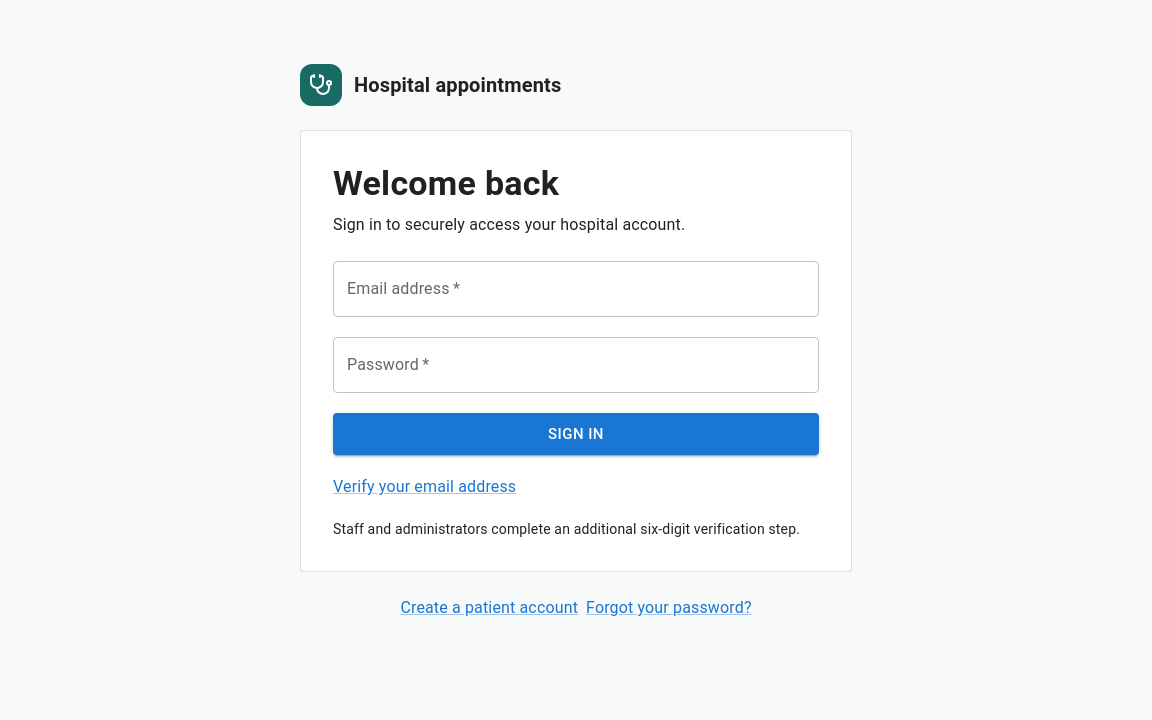
Test case: identity routes › completes MFA and redirects forced-password staff to password change
In the field labelled "Email address *": (576, 289) [333,261,819,317], type "staff@example.test"
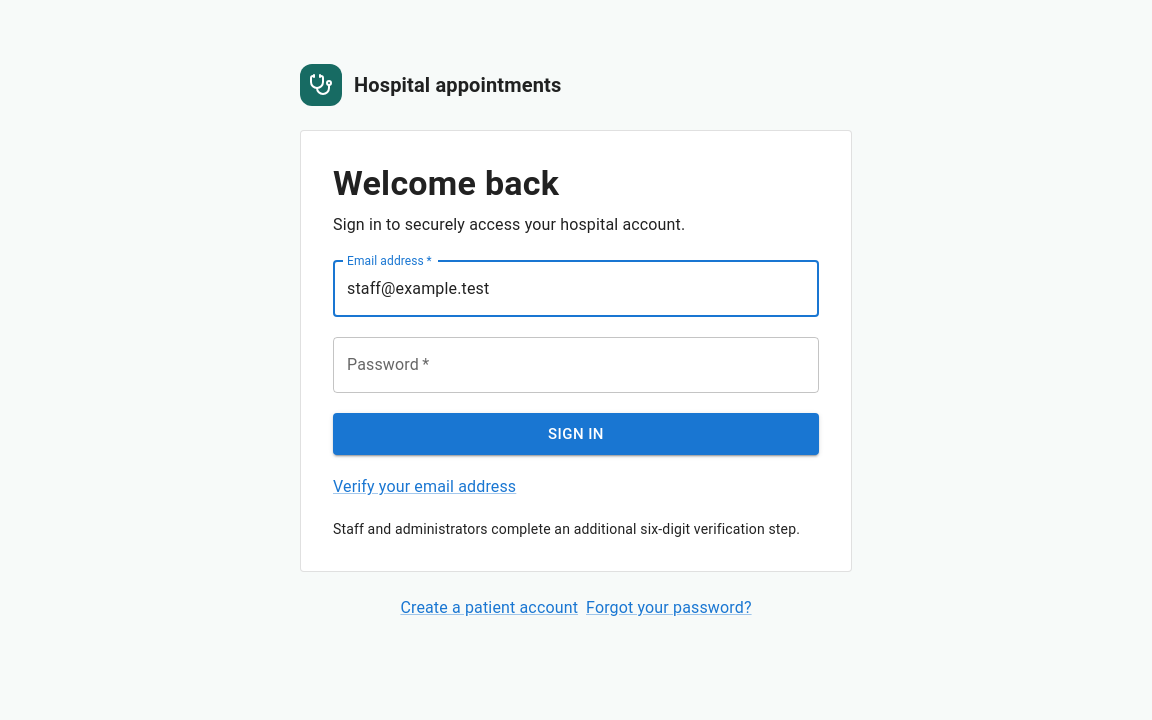
In the password field labelled "Password *": (576, 365) [333,337,819,393], type "not-a-real-password"
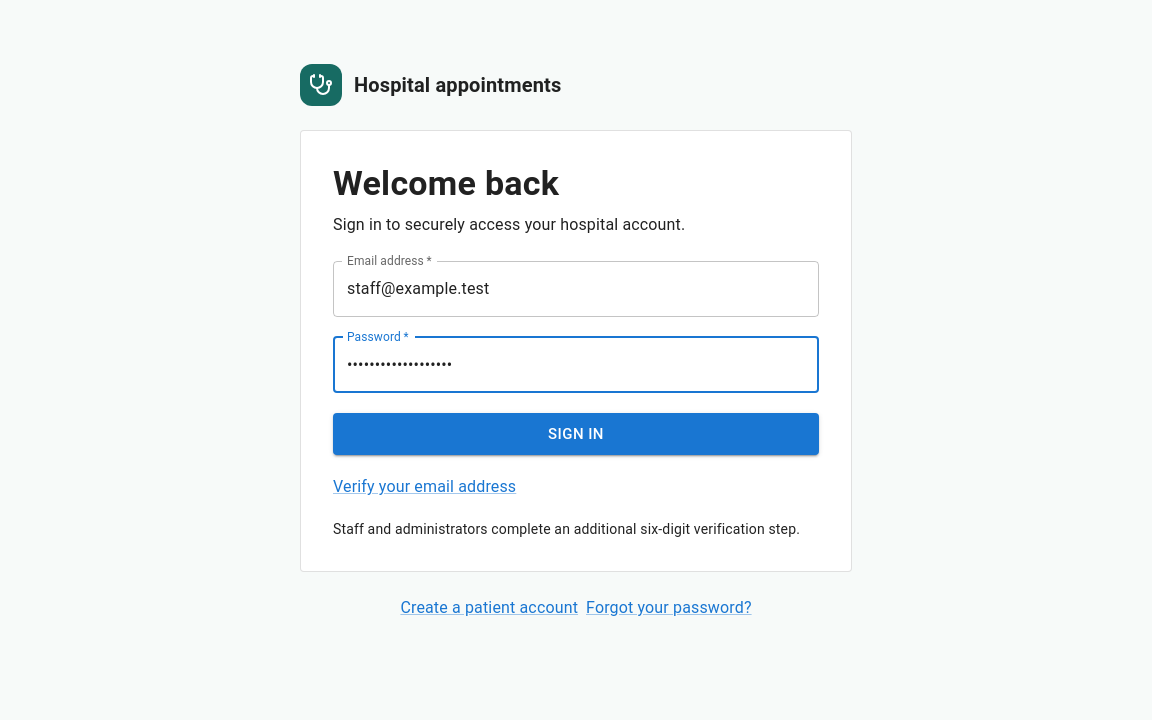
Click the button "Sign in": (576, 434) [333,413,819,455]
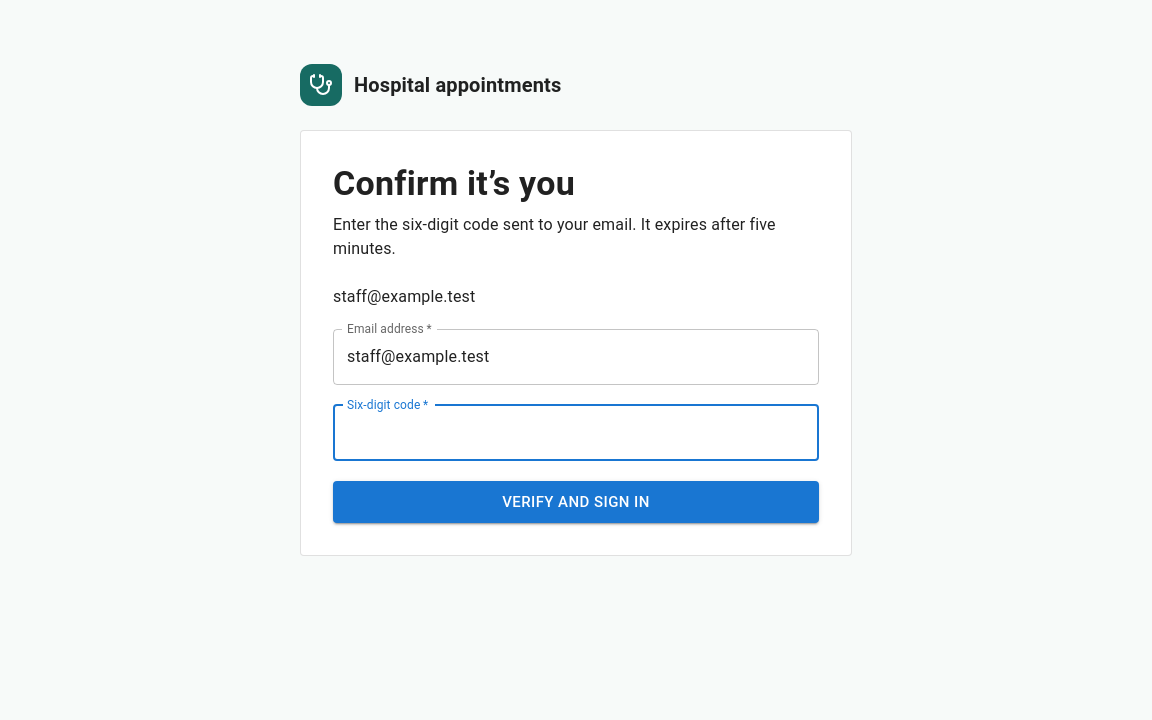
Check: the field labelled "Email address *" holds "staff@example.test", box [333,329,819,385]
Check: the heading "Confirm it’s you" is shown, box [333,163,575,203]
In the field labelled "Six-digit code *": (576, 433) [333,405,819,461], type "123456"
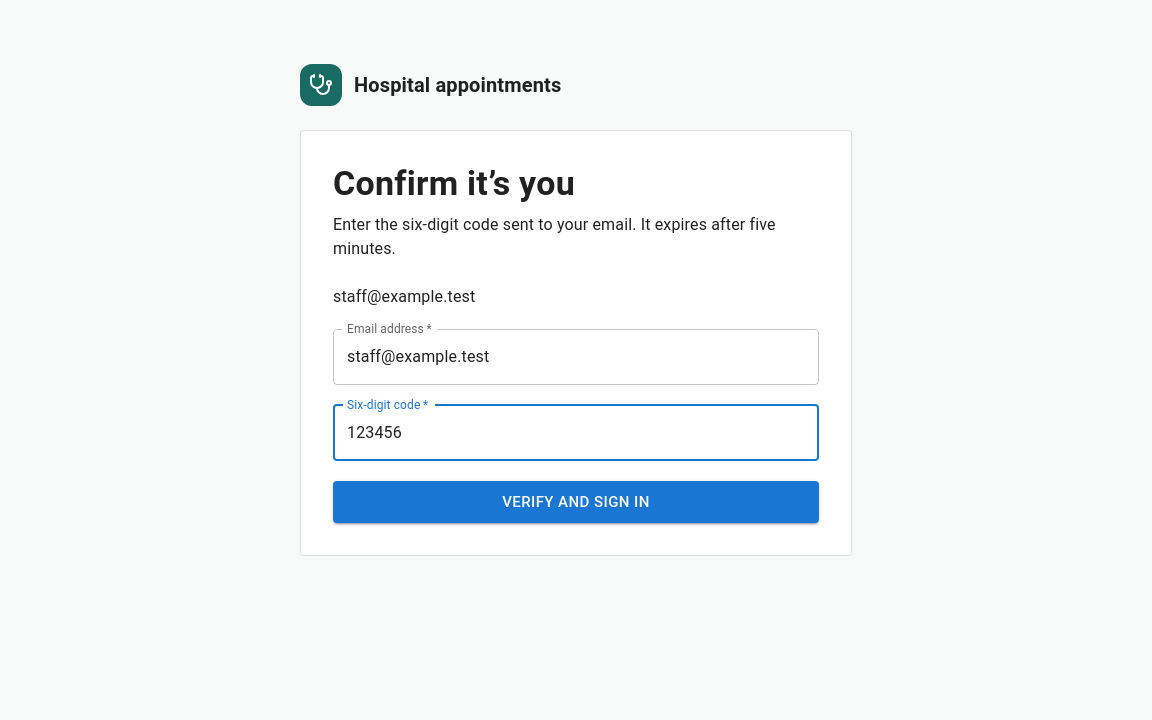
Click the button "Verify and sign in": (576, 502) [333,481,819,523]
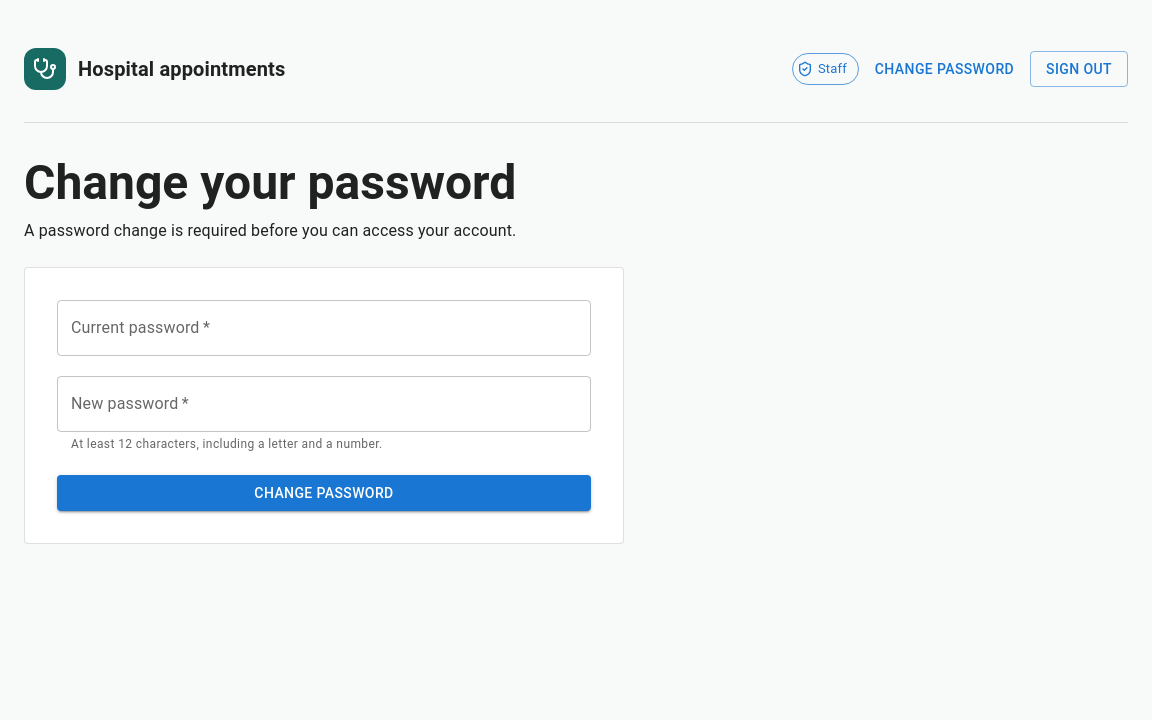
Check: the heading "Change your password" is shown, box [24,154,516,211]
